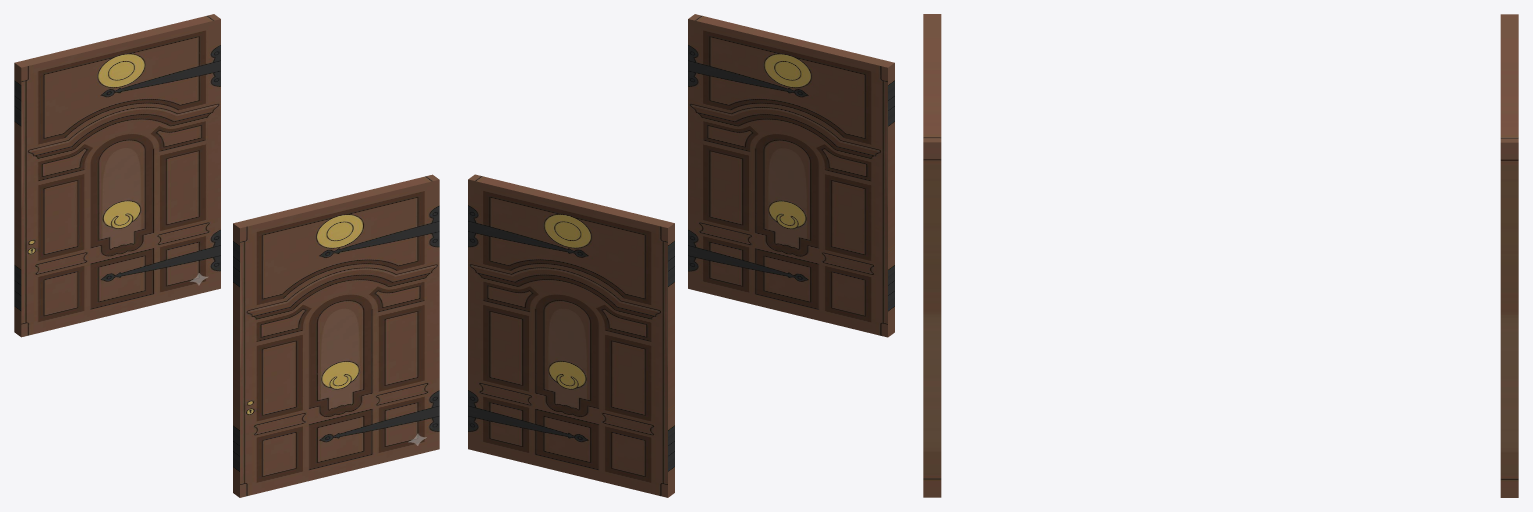
Rendered from puertas1.obj.
The picture shows the model from 3 angles, left to right: view 1: azimuth 30°, elevation 25°; view 2: azimuth 150°, elevation 25°; view 3: azimuth 270°, elevation 25°; orthographic projection. The views are drawn at different scales.
Parts seen in each view (by area): view 1: Puerta2.007; view 2: Puerta2.007; view 3: Puerta2.007.
Part boxes in pixels (x1,y1,x2,y2): Puerta2.007: (14, 14, 439, 497); Puerta2.007: (468, 14, 894, 497); Puerta2.007: (923, 14, 1518, 497).
Bounding box in the file's own units: 2.02 × 2.6 × 3.95.
Materials: 1 (1 with a texture image).
